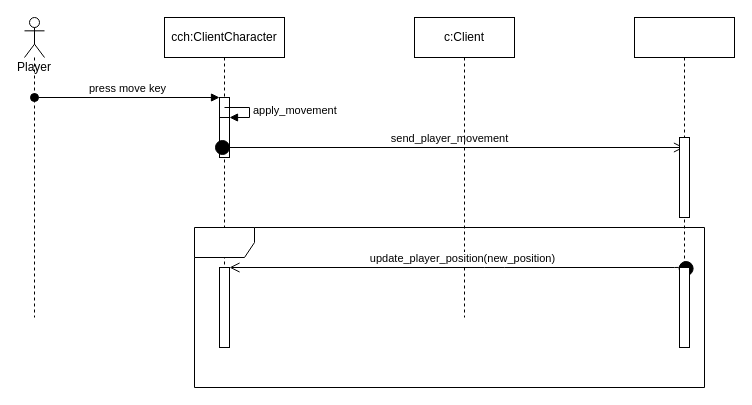
Some shapes in this 752 by 405 pixel diagram are drawn without their labels. The shapes that lost their labels are listed below. From the top down, each one's centre as x and y in pixels, then its label:
At (x=684, y=167): "s:Server".
At (x=449, y=307): "Loop".
